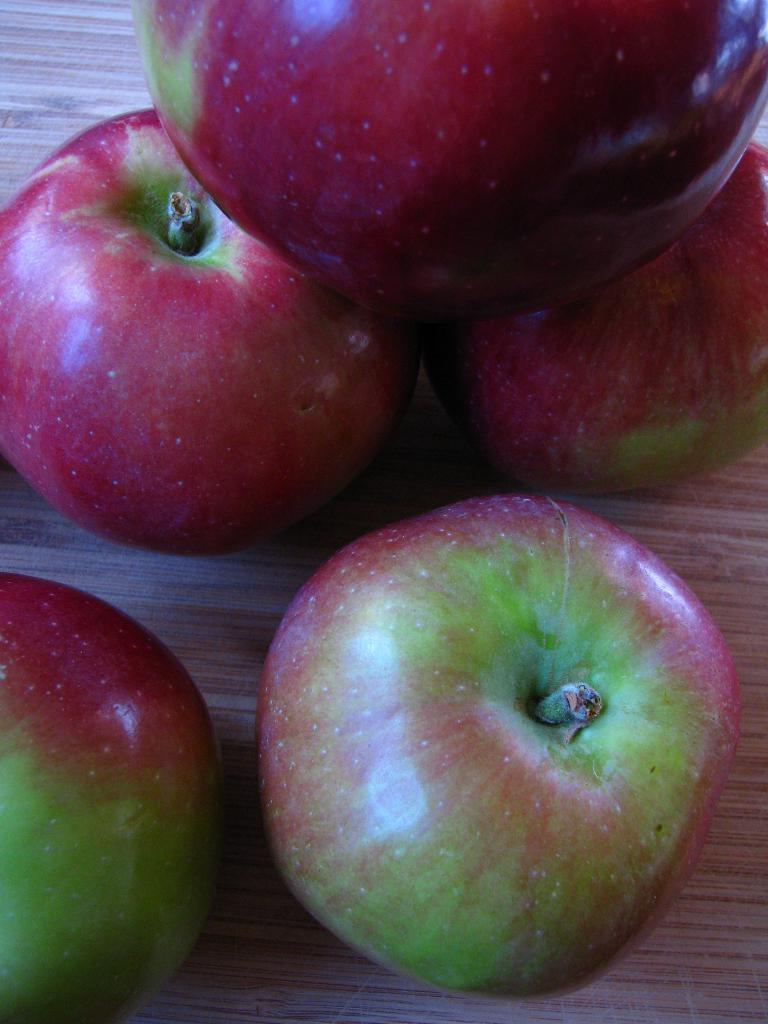Apple: (237, 490, 758, 997), (129, 0, 767, 324), (0, 102, 410, 550), (419, 139, 767, 501), (0, 560, 231, 1023)
